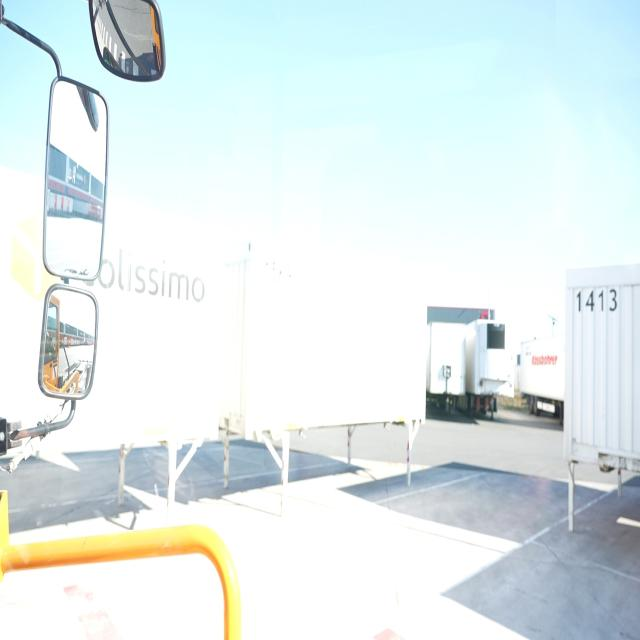Code: (570, 280, 626, 320)
